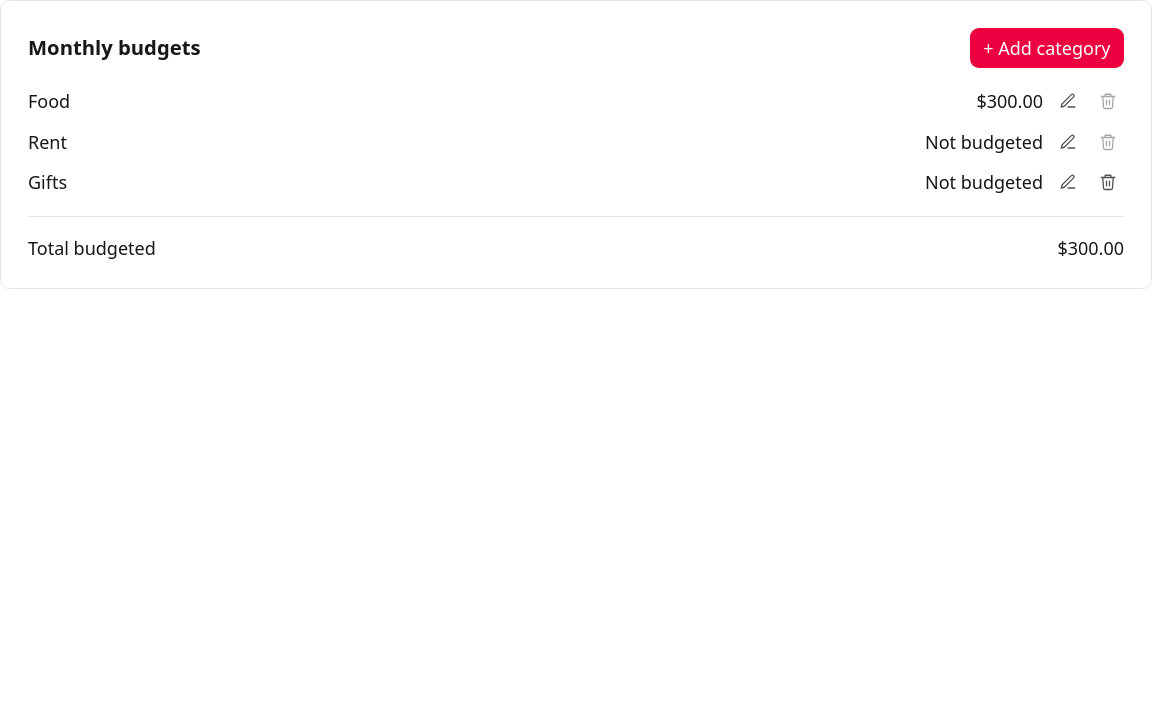
Test: BudgetSetup › discards the typed draft when the edit modal is cancelled without saving
expect the text "Rent" is shown: met, box [28,129,67,155]
Click the button named "Edit budget" in the row of "Rent": (1068, 142) [1052,126,1084,158]
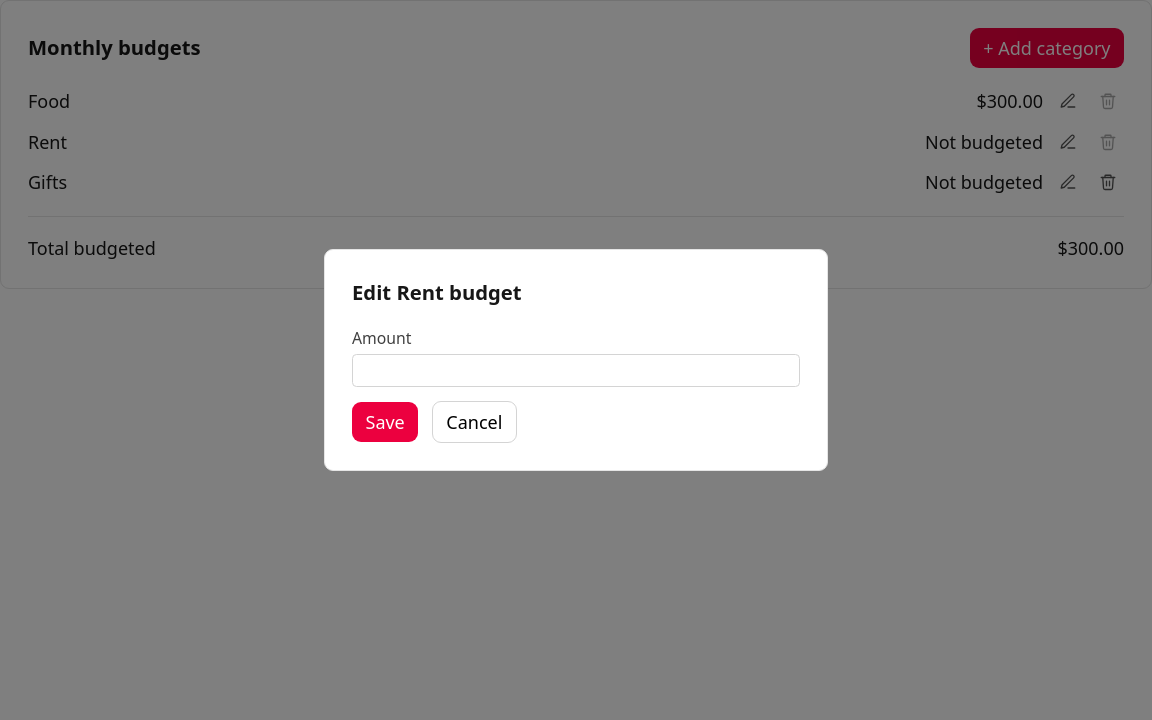
In the number field labelled "Amount": (576, 371) [352,354,800,388], type "999"
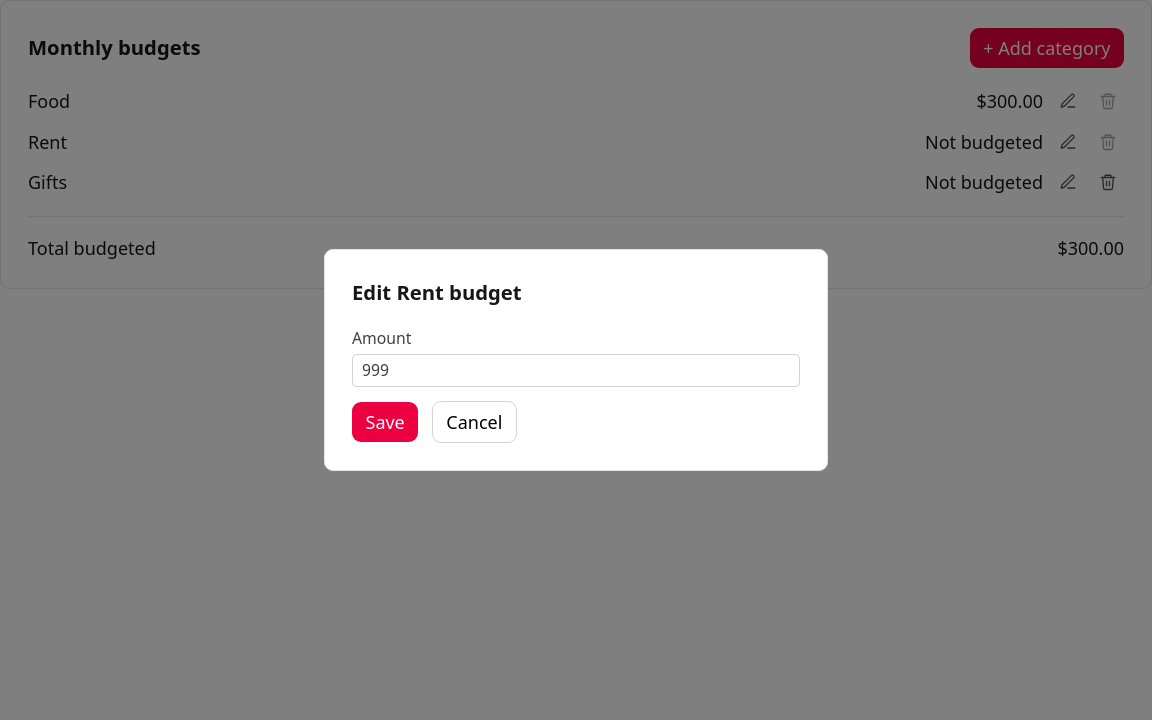
Click the button "Cancel": (474, 422) [432,401,517,443]
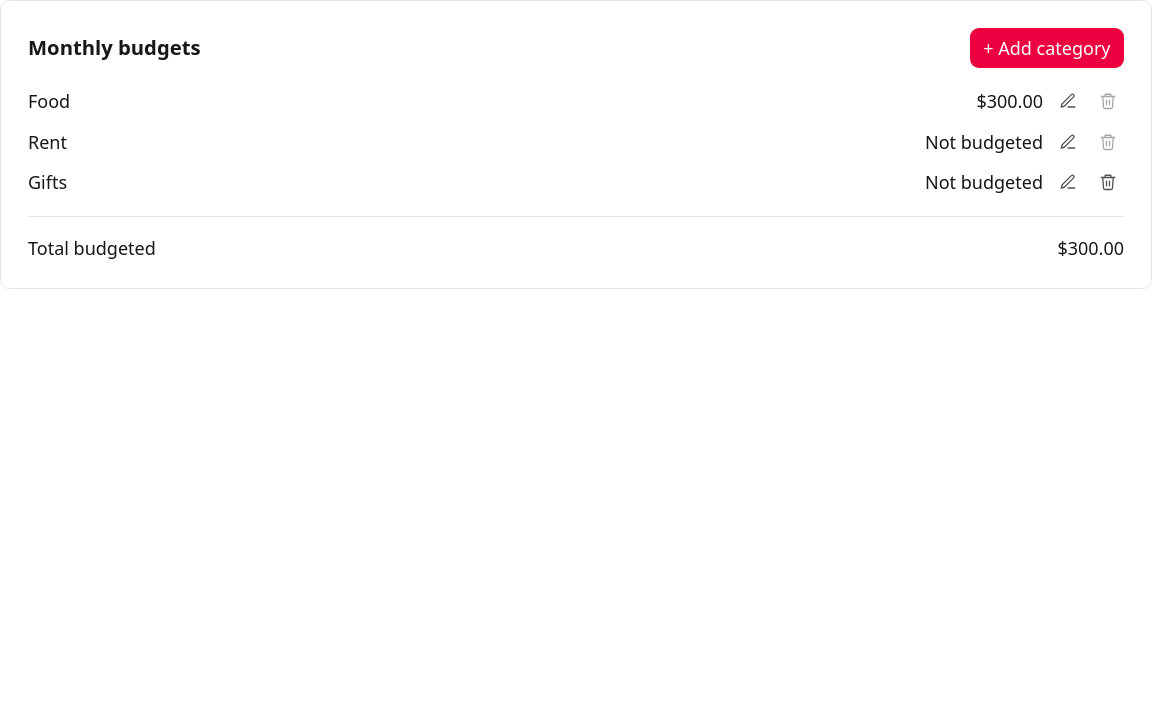
expect the text "Not budgeted" next to "Rent" is shown: met, box [925,130,1043,154]
expect the dialog is gone: met
Click the button named "Edit budget" in the row of "Rent": (1068, 142) [1052,126,1084,158]
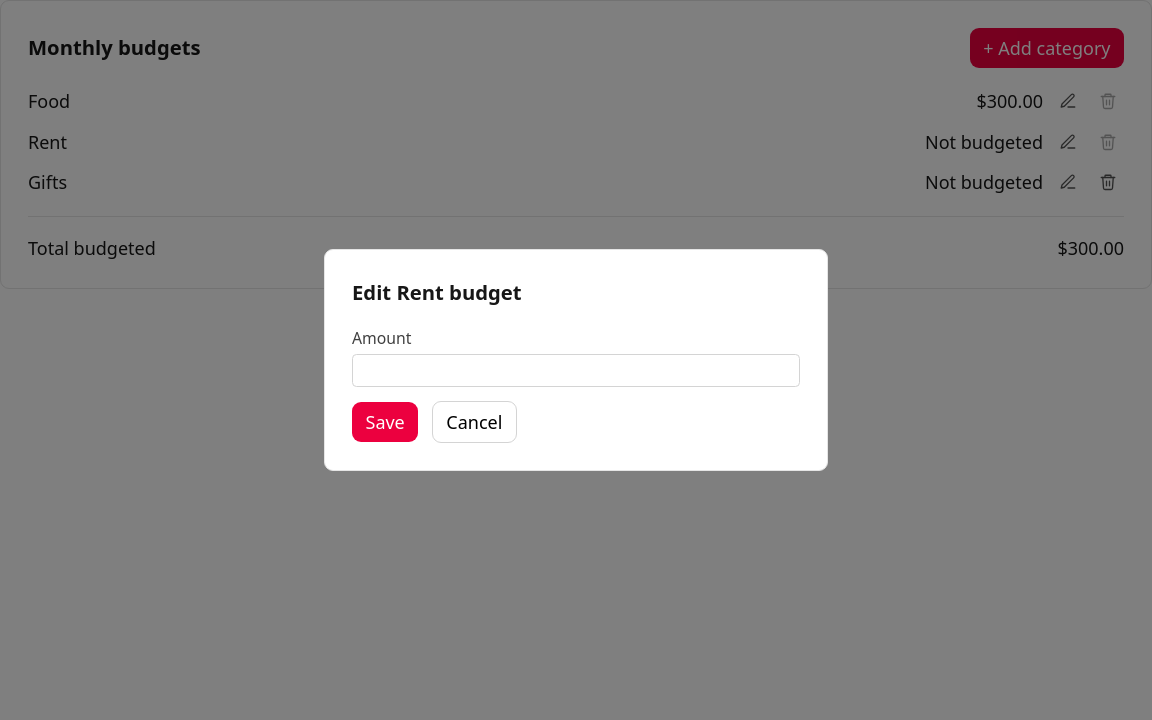
expect the number field labelled "Amount" is not empty: met, box [352,354,800,388]
